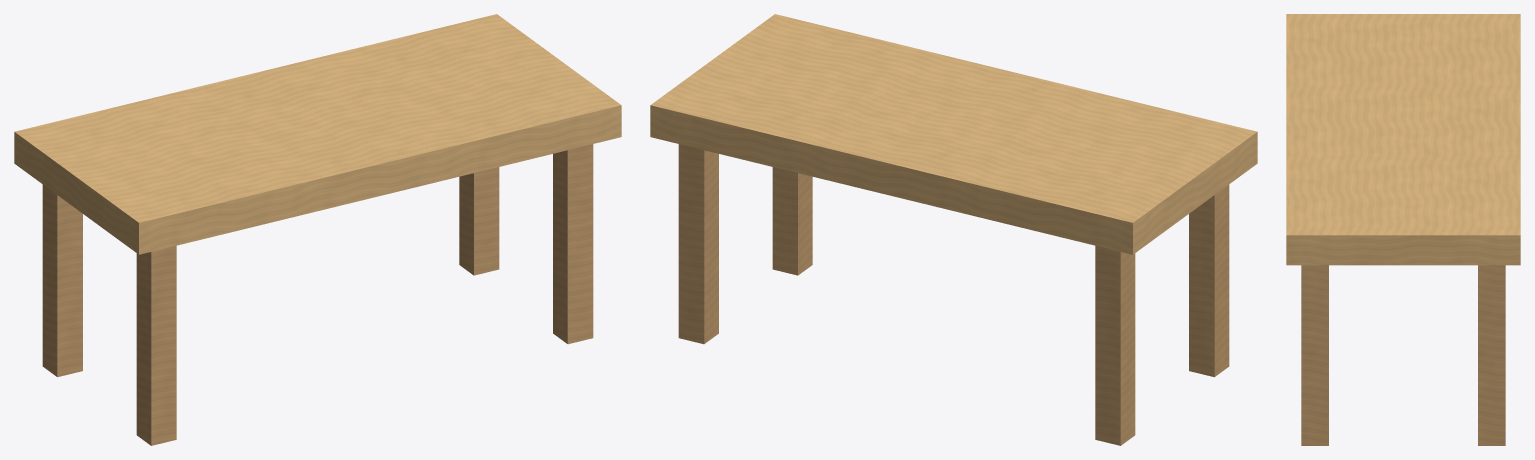
File: 07_table.glb
The picture shows the model from 3 angles, left to right: view 1: azimuth 30°, elevation 25°; view 2: azimuth 150°, elevation 25°; view 3: azimuth 270°, elevation 25°; orthographic projection. The views are drawn at different scales.
Parts seen in each view (by area): view 1: Intact; view 2: Intact; view 3: Intact.
Boxes of the visible parts, x1,y1,x2,y2 form: Intact: (14,14,621,445); Intact: (650,14,1257,445); Intact: (1286,14,1520,445).
Bounding box in the file's own units: 1.9 × 0.88 × 0.85.
5 materials, 5 textured.
